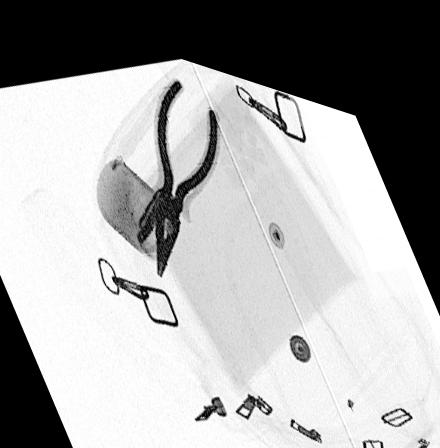Pliers: (151, 62, 224, 269)
